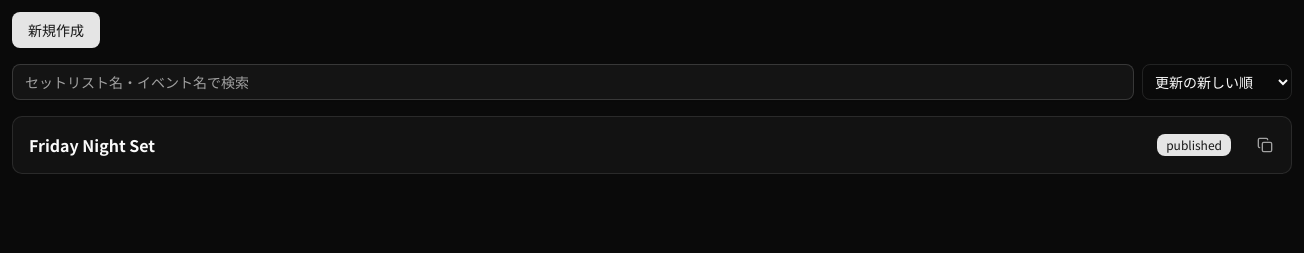
Scenario: SetlistList 複製の既定エラー › falls back to a generic message when the failure is not an Error
Check: the text "Friday Night Set" is shown, box [29, 133, 155, 157]
Click the button named "Friday Night Set を複製": (1265,145) [1247, 127, 1283, 163]
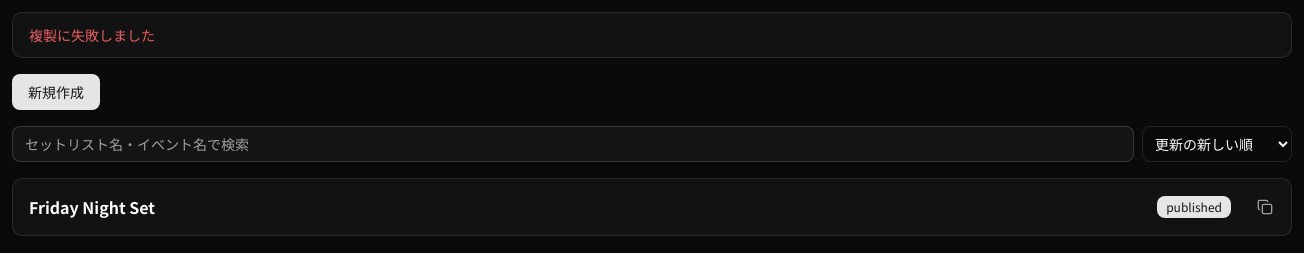
Check: the text "複製に失敗しました" is shown, box [29, 25, 155, 45]
